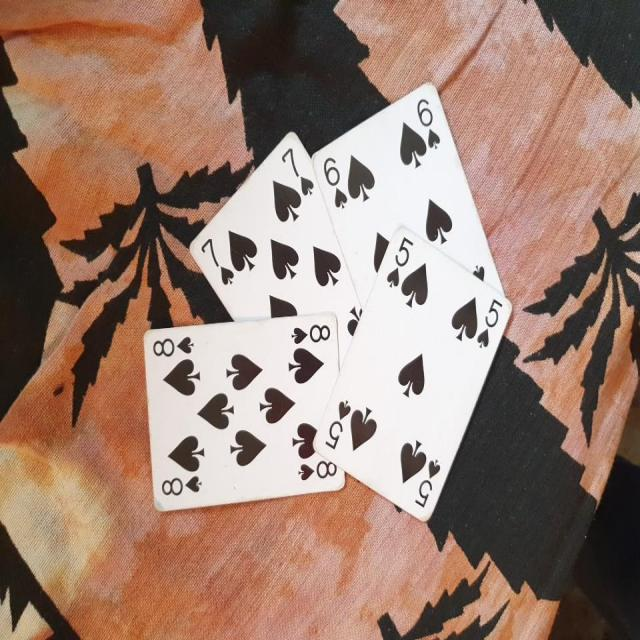5 Spades: (309, 233, 512, 529)
6 Spades: (312, 81, 507, 324)
7 Spades: (187, 129, 365, 362)
8 Spades: (133, 308, 353, 528)
